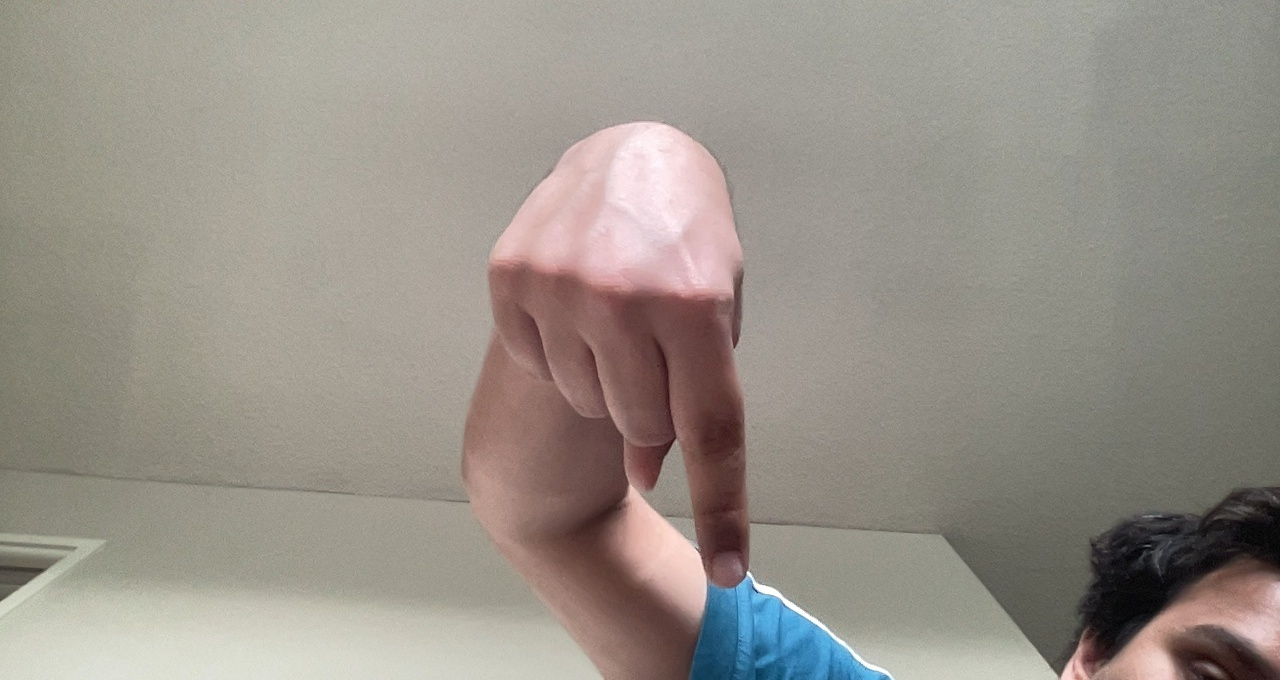fingerdown: (479, 114, 759, 594)
